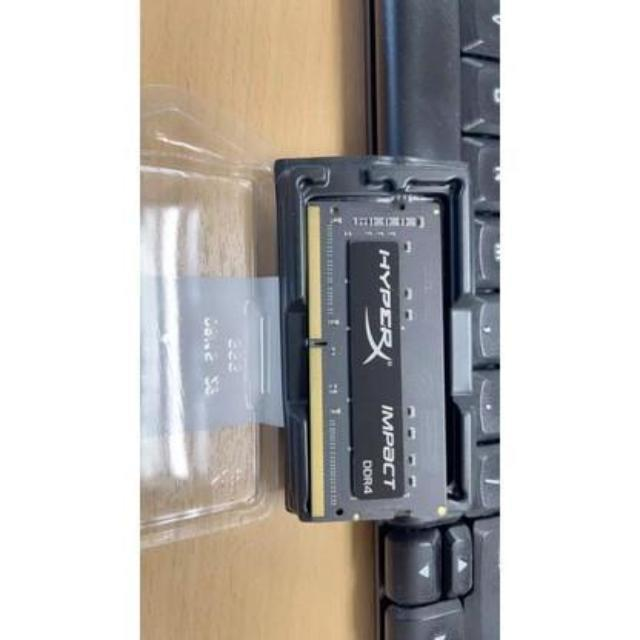RAM: (298, 190, 456, 533)
